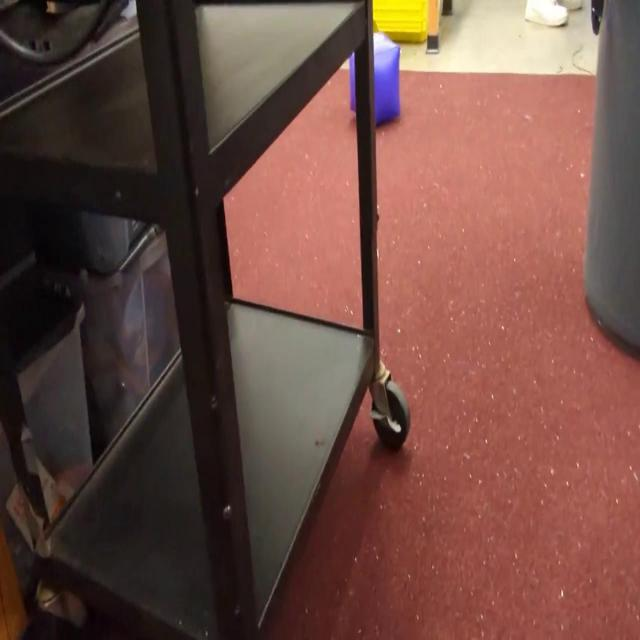frc_cube: (350, 32, 400, 133)
